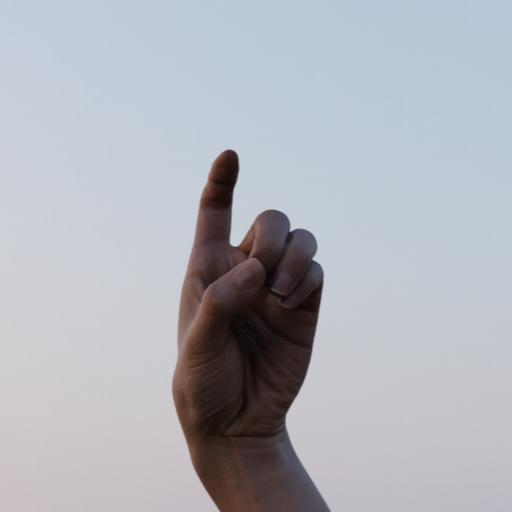X: (162, 145, 335, 461)
